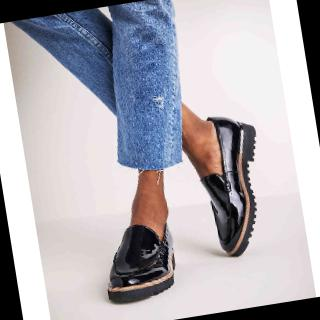loafers: (180, 103, 274, 264), (94, 208, 184, 310)
